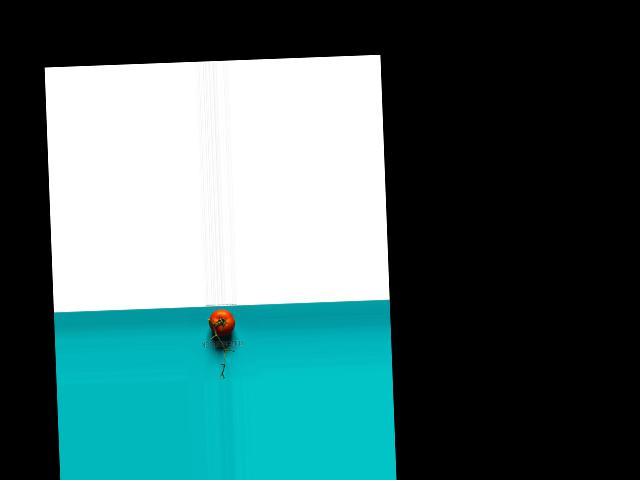tomato: (207, 309, 235, 335)
